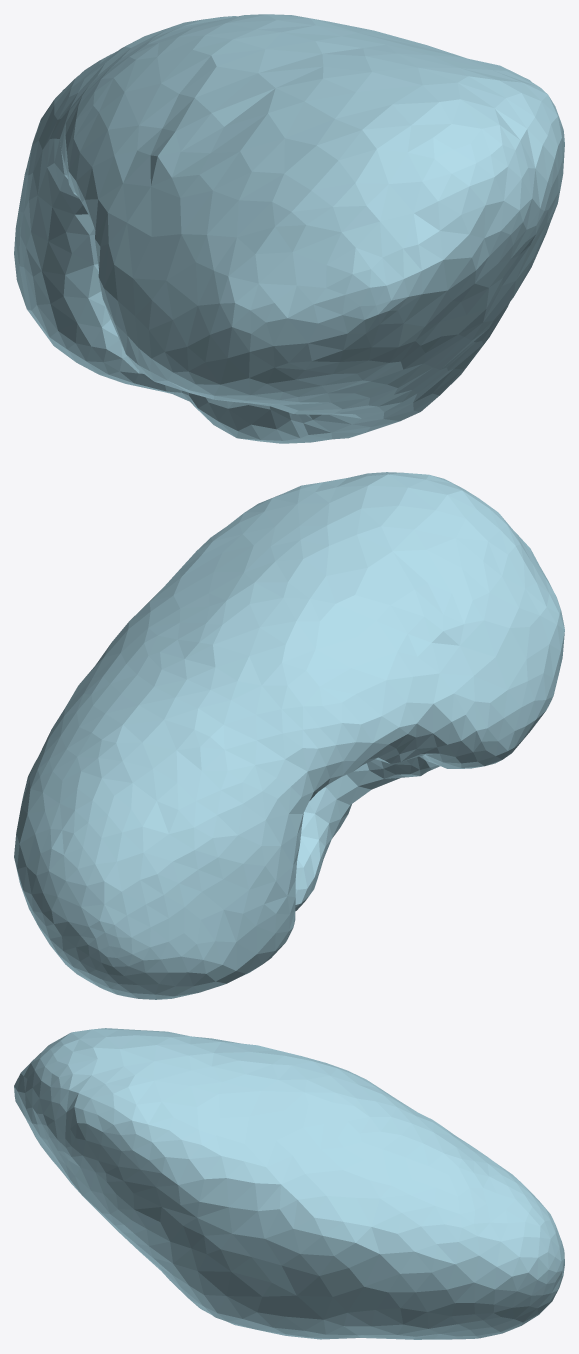
The model's file is leftkidney.obj.
The picture shows the model from 3 angles, top to bottom: view 1: azimuth 30°, elevation 25°; view 2: azimuth 150°, elevation 25°; view 3: azimuth 270°, elevation 25°; orthographic projection. The views are drawn at different scales.
Visible parts, largest first — view 1: grp1; view 2: grp1; view 3: grp1.
Part boxes in pixels (box(x1,y1,x2,y2)): grp1: box(14, 14, 564, 443); grp1: box(14, 472, 564, 999); grp1: box(14, 1028, 564, 1339).
Bounding box in the file's own units: 66.47 × 64.19 × 112.
